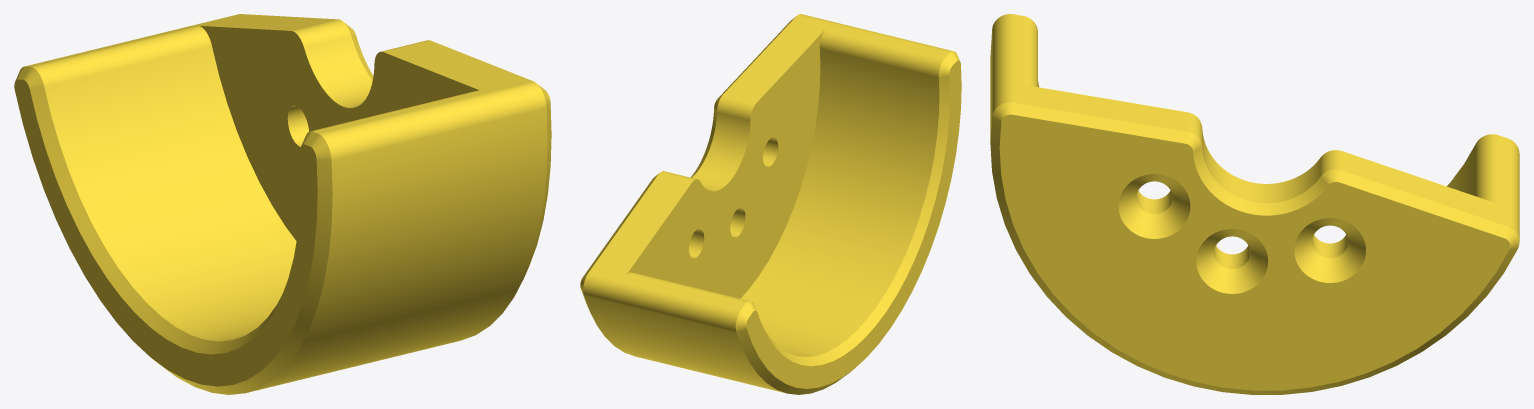
Rendered from Weapon_Belt_Guard.gltf.
3 views of the same model, side by side, from view 1: azimuth 30°, elevation 25°; view 2: azimuth 150°, elevation 25°; view 3: azimuth 270°, elevation 25° (orthographic). The views are drawn at different scales.
Visible parts, largest first — view 1: mesh3958, mesh3950, mesh3968, mesh3961, mesh3948, mesh3963, mesh3952, mesh3962, mesh3954, mesh3942, mesh3959, mesh3944 (+2 smaller); view 2: mesh3958, mesh3968, mesh3950, mesh3961, mesh3959, mesh3963, mesh3954, mesh3951, mesh3956, mesh3942, mesh3952, mesh3962 (+5 smaller); view 3: mesh3937, mesh3947, mesh3954, mesh3959, mesh3970, mesh3966, mesh3936, mesh3942, mesh3938, mesh3945, mesh3941, mesh3948 (+8 smaller).
Boxes of the visible parts, x1,y1,x2,y2 form: mesh3958: (44,46,296,341); mesh3950: (247,108,547,392); mesh3968: (200,26,478,240); mesh3961: (14,79,317,386); mesh3948: (319,81,546,160); mesh3963: (30,87,282,354); mesh3952: (154,160,332,394); mesh3962: (31,26,211,86); mesh3954: (314,40,532,133); mesh3942: (304,36,372,108); mesh3959: (26,14,337,66); mesh3944: (292,19,351,47); mesh3958: (740,48,939,356); mesh3968: (627,30,824,298); mesh3950: (584,295,785,393); mesh3961: (746,60,961,388); mesh3959: (588,175,743,310); mesh3963: (762,76,949,366); mesh3954: (723,16,948,102); mesh3951: (583,273,740,332); mesh3956: (819,28,944,77); mesh3942: (692,112,750,191); mesh3952: (736,329,851,394); mesh3962: (626,272,749,305); mesh3937: (999,114,1510,390); mesh3947: (990,117,1517,394); mesh3954: (1013,14,1187,131); mesh3959: (1342,135,1507,226); mesh3970: (1294,218,1365,282); mesh3966: (1118,174,1190,238); mesh3936: (1196,229,1267,293); mesh3942: (1202,130,1320,203); mesh3938: (1012,102,1186,143); mesh3945: (1339,170,1507,237); mesh3941: (1193,147,1327,215); mesh3948: (992,14,1013,114).
Bounding box in the file's own units: 0.0247 × 0.0351 × 0.0575.
